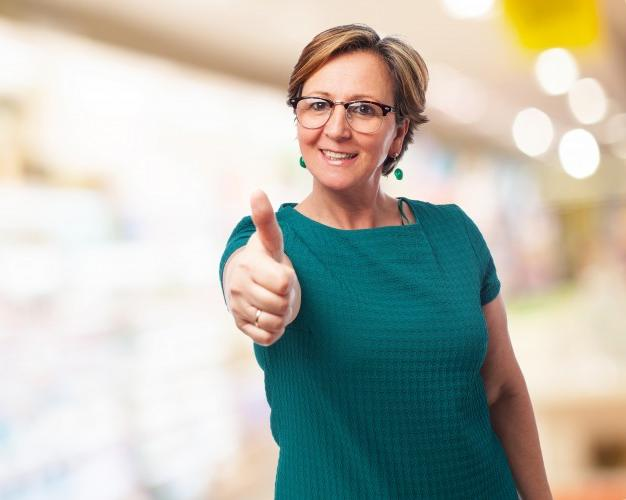thumbsup: (228, 189, 296, 348)
